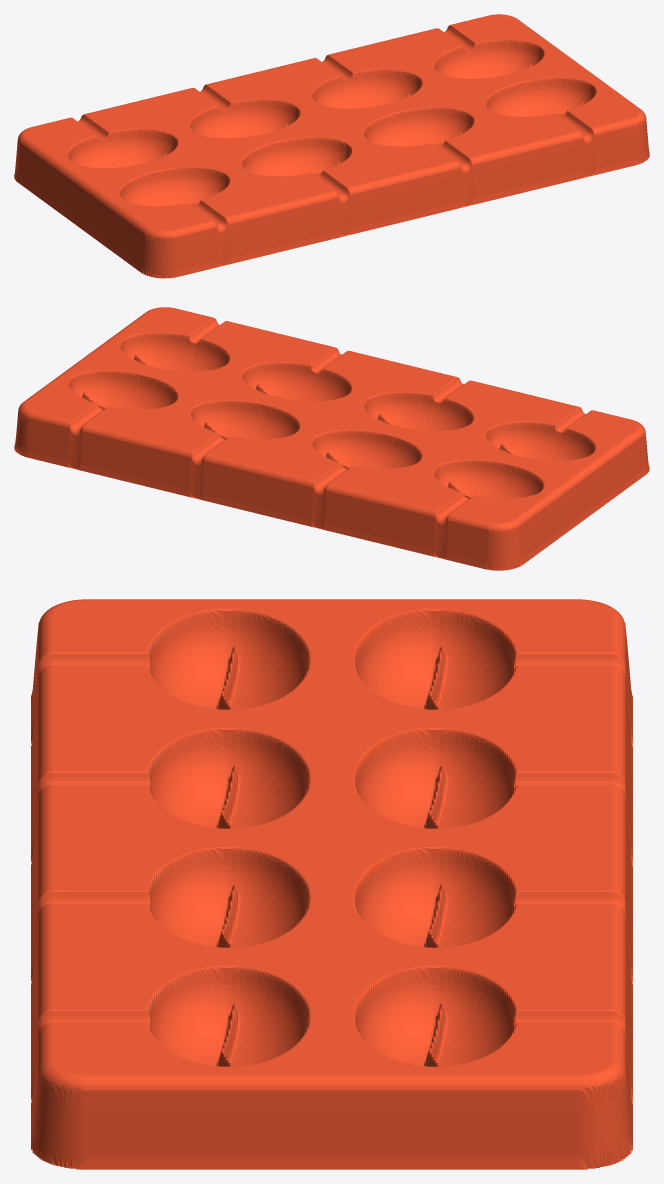
Rendered from mold.glb.
The picture shows the model from 3 angles, top to bottom: view 1: azimuth 30°, elevation 25°; view 2: azimuth 150°, elevation 25°; view 3: azimuth 270°, elevation 25°; orthographic projection. The views are drawn at different scales.
Visible parts, largest first — view 1: geometry_0; view 2: geometry_0; view 3: geometry_0.
Boxes of the visible parts, x1,y1,x2,y2 form: geometry_0: (14,14,649,278); geometry_0: (14,307,649,570); geometry_0: (31,599,632,1169).
Bounding box in the file's own units: 0.1907 × 0.0155 × 0.0986.
